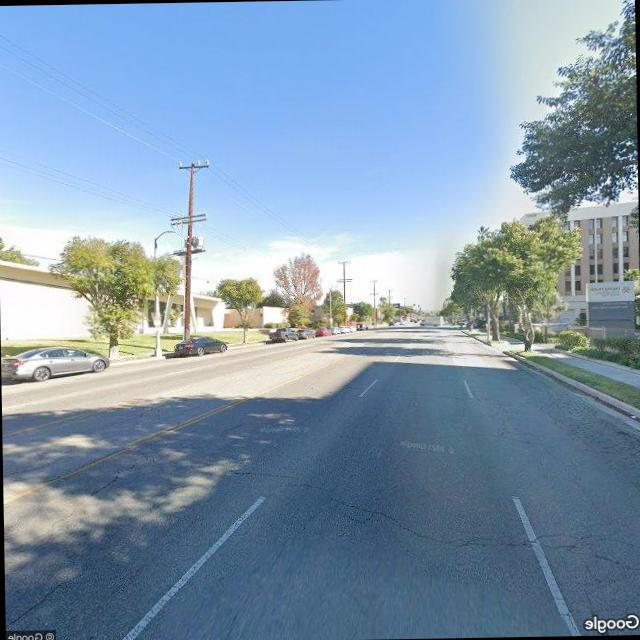crack: (228, 455, 640, 577), (84, 439, 162, 501), (5, 570, 80, 628)
